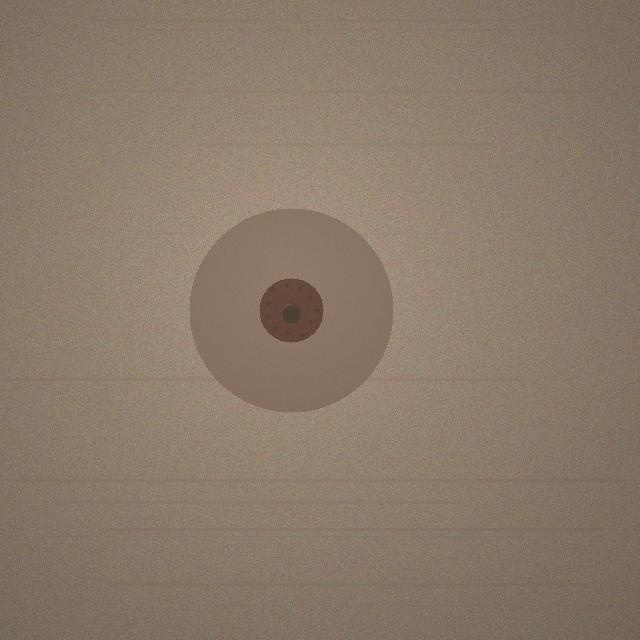cold_weld: (189, 208, 393, 412)
